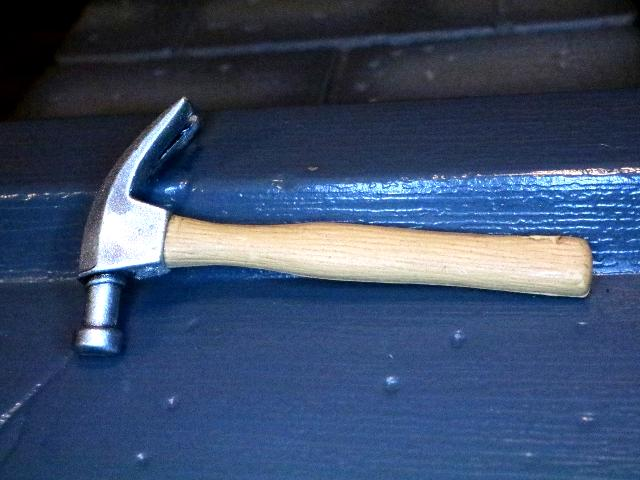hammer: (62, 88, 598, 366)
